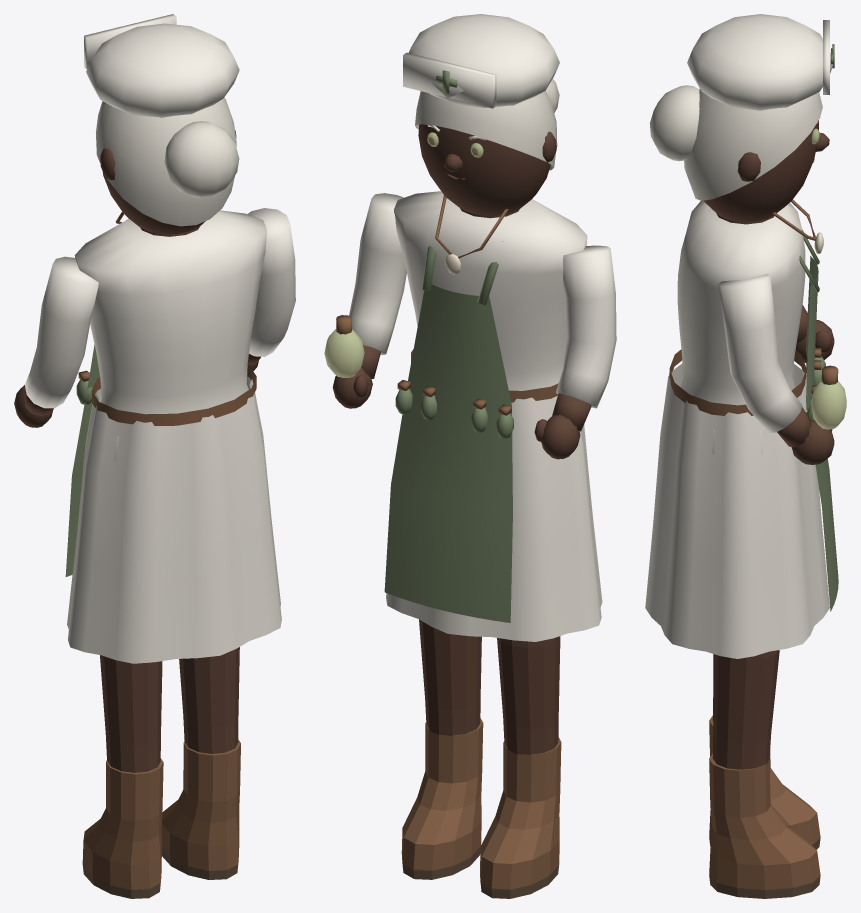
File: SM_NPC_NANA.glb
3 views of the same model, side by side, from view 1: azimuth 30°, elevation 25°; view 2: azimuth 150°, elevation 25°; view 3: azimuth 270°, elevation 25° (orthographic).
Parts seen in each view (by area): view 1: SM_NPC_NANA_BODY, SM_NPC_NANA_HAIR, SM_NPC_NANA_LEG_L, SM_NPC_NANA_LEG_R, SM_NPC_NANA_ARM_L, SM_NPC_NANA_ARM_R, SM_NPC_NANA_HEAD; view 2: SM_NPC_NANA_BODY, SM_NPC_NANA_HAIR, SM_NPC_NANA_LEG_L, SM_NPC_NANA_LEG_R, SM_NPC_NANA_ARM_L, SM_NPC_NANA_ARM_R, SM_NPC_NANA_HEAD; view 3: SM_NPC_NANA_BODY, SM_NPC_NANA_HAIR, SM_NPC_NANA_LEG_R, SM_NPC_NANA_ARM_R, SM_NPC_NANA_HEAD, SM_NPC_NANA_LEG_L, SM_NPC_NANA_ARM_L.
Boxes of the visible parts, x1,y1,x2,y2 form: SM_NPC_NANA_BODY: (65, 210, 281, 663); SM_NPC_NANA_HAIR: (84, 14, 239, 226); SM_NPC_NANA_LEG_L: (82, 655, 163, 898); SM_NPC_NANA_LEG_R: (161, 647, 240, 879); SM_NPC_NANA_ARM_L: (14, 256, 98, 427); SM_NPC_NANA_ARM_R: (247, 208, 295, 370); SM_NPC_NANA_HEAD: (100, 130, 236, 234); SM_NPC_NANA_BODY: (384, 191, 602, 641); SM_NPC_NANA_HAIR: (403, 14, 559, 170); SM_NPC_NANA_LEG_L: (480, 636, 561, 898); SM_NPC_NANA_LEG_R: (401, 619, 483, 879); SM_NPC_NANA_ARM_L: (534, 245, 616, 459); SM_NPC_NANA_ARM_R: (324, 193, 406, 408); SM_NPC_NANA_HEAD: (418, 124, 556, 215); SM_NPC_NANA_BODY: (645, 199, 838, 658); SM_NPC_NANA_HAIR: (649, 14, 834, 200); SM_NPC_NANA_LEG_R: (709, 650, 820, 898); SM_NPC_NANA_ARM_R: (718, 274, 846, 464); SM_NPC_NANA_HEAD: (703, 120, 829, 222); SM_NPC_NANA_LEG_L: (709, 654, 820, 849); SM_NPC_NANA_ARM_L: (795, 305, 834, 363).
Size of the model in its own units: 0.5578 by 1.76 by 0.3829.
